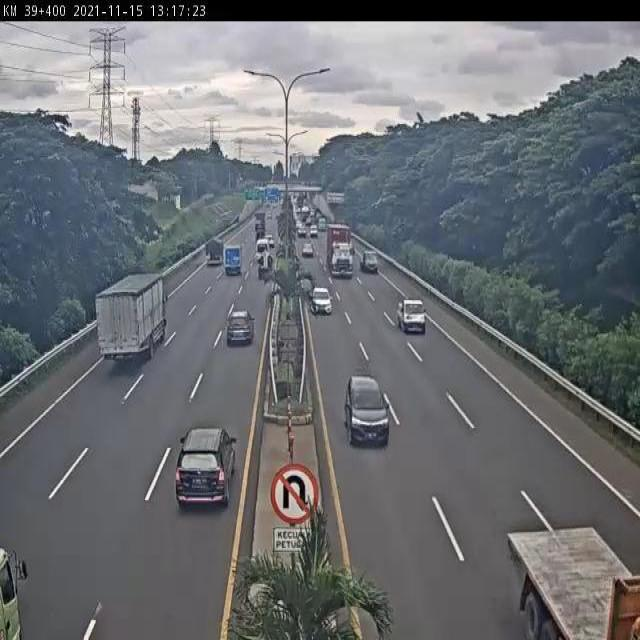ARABA: (172, 422, 238, 507), (345, 375, 392, 449), (224, 308, 256, 349), (310, 282, 336, 318)
KAMYONET: (94, 272, 168, 364), (395, 293, 429, 336), (222, 242, 245, 278), (255, 250, 279, 282), (360, 245, 382, 275), (204, 236, 225, 265)
TIR: (515, 529, 638, 640), (324, 220, 357, 287)
